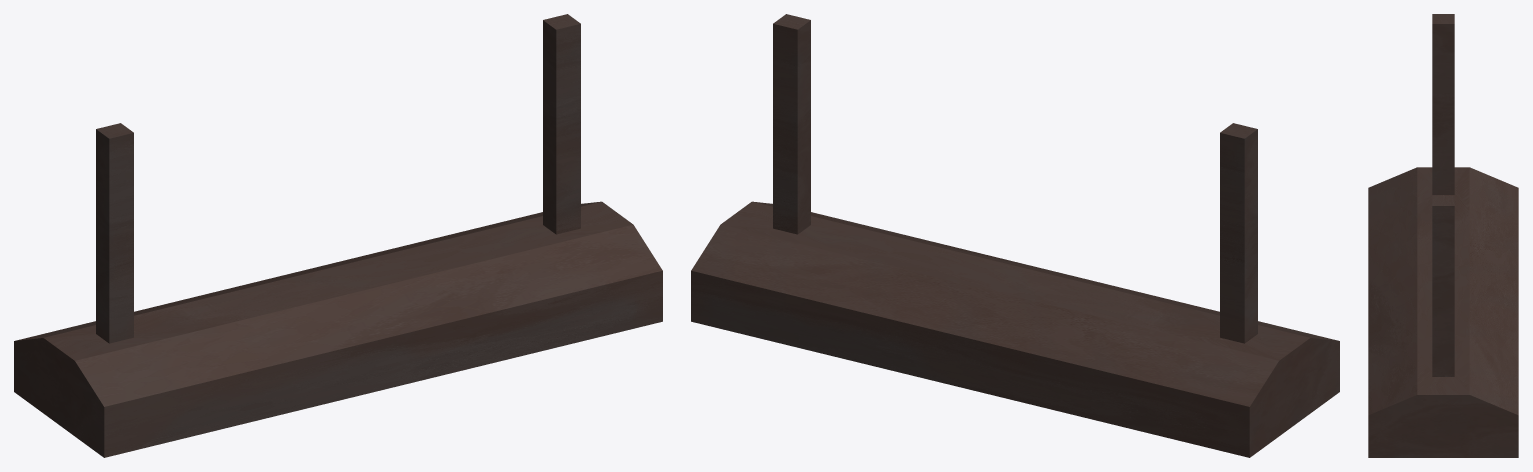
The model's file is light.fbx.
The picture shows the model from 3 angles, left to right: view 1: azimuth 30°, elevation 25°; view 2: azimuth 150°, elevation 25°; view 3: azimuth 270°, elevation 25°; orthographic projection. The views are drawn at different scales.
Visible parts, largest first — view 1: Lumiere; view 2: Lumiere; view 3: Lumiere.
Boxes of the visible parts, box(x1,y1,x2,y2) form: Lumiere: box(14, 14, 662, 457); Lumiere: box(691, 14, 1339, 457); Lumiere: box(1368, 14, 1518, 457).
Bounding box in the file's own units: 306 × 147 × 85.54.
